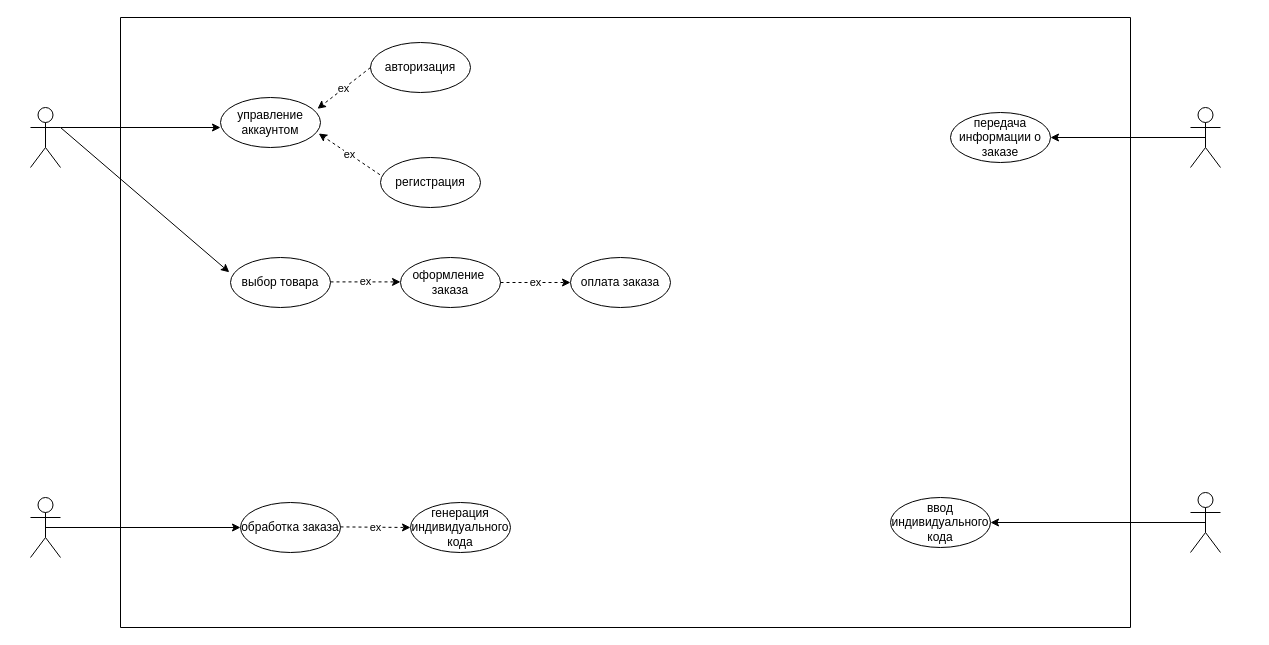
Image size: 1269x645. Some labels were removed from this diagram. Each missing label, with the centre of its shape:
клиент: point (45, 137)
менеджер: point (45, 527)
работник ПВ: point (1205, 522)
работник склада: point (1205, 137)
